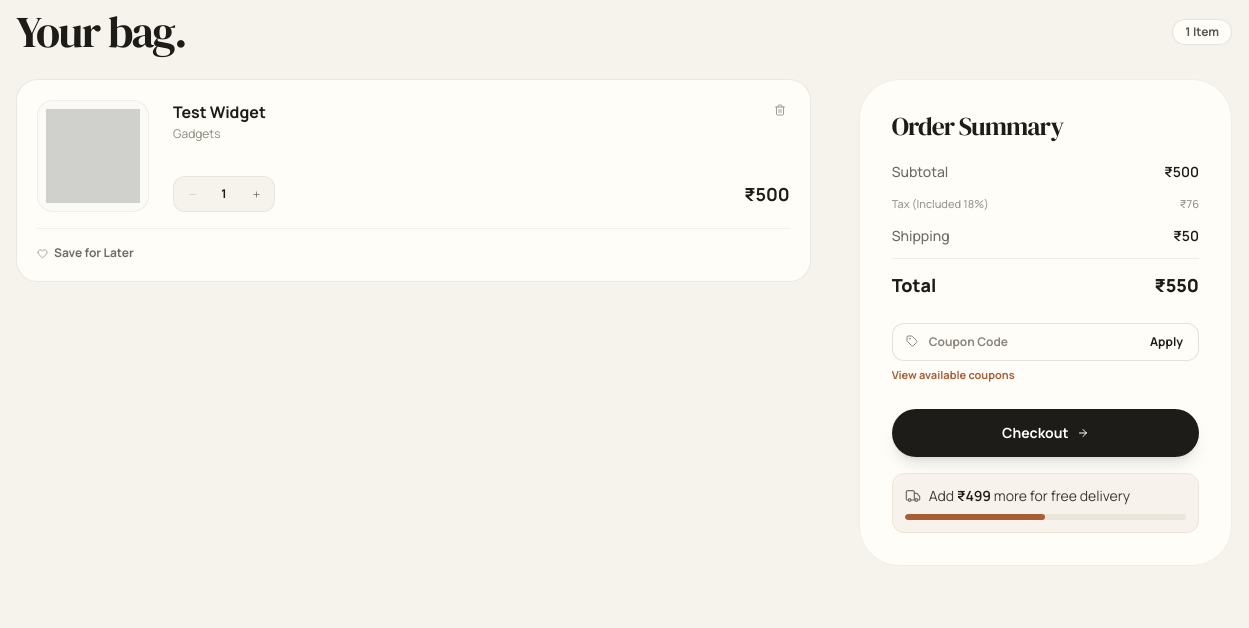
Cart Component › fetches and displays available coupons on request
Click the button "View available coupons": x=953, y=375 [892, 367, 1015, 383]
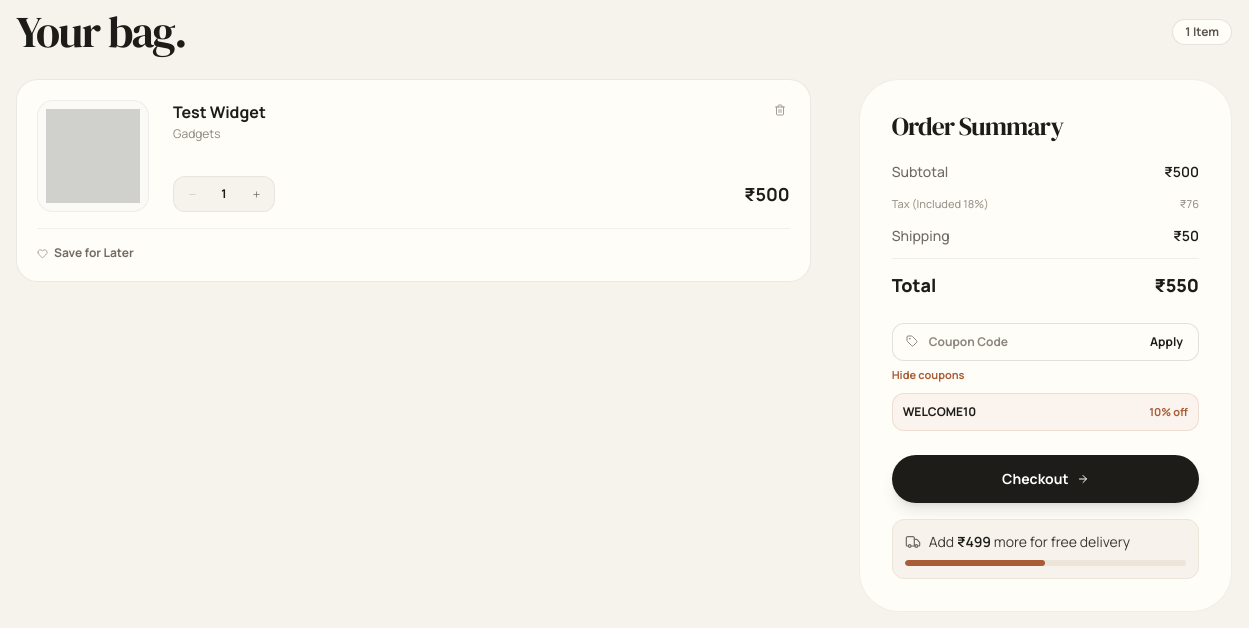
Expected: the text "WELCOME10" is shown, [903, 404, 976, 420]
